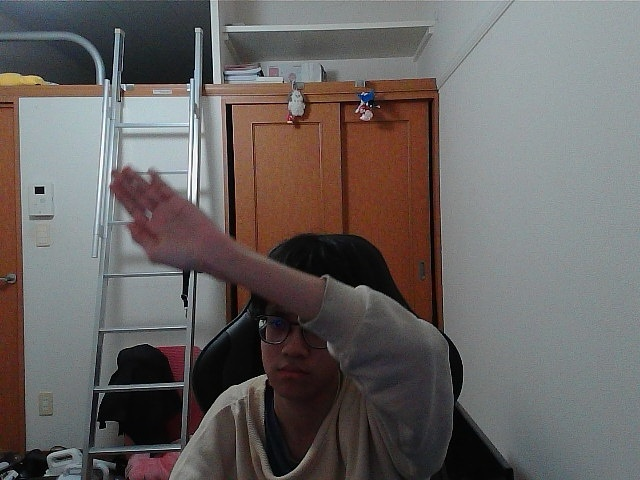open_palm: (116, 170, 203, 259)
